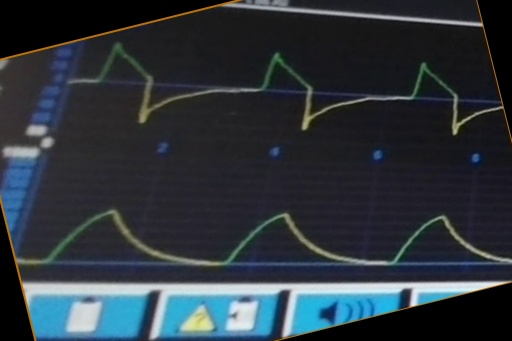Normal Flow: (71, 40, 501, 139)
Normal Volume: (19, 189, 512, 271)
